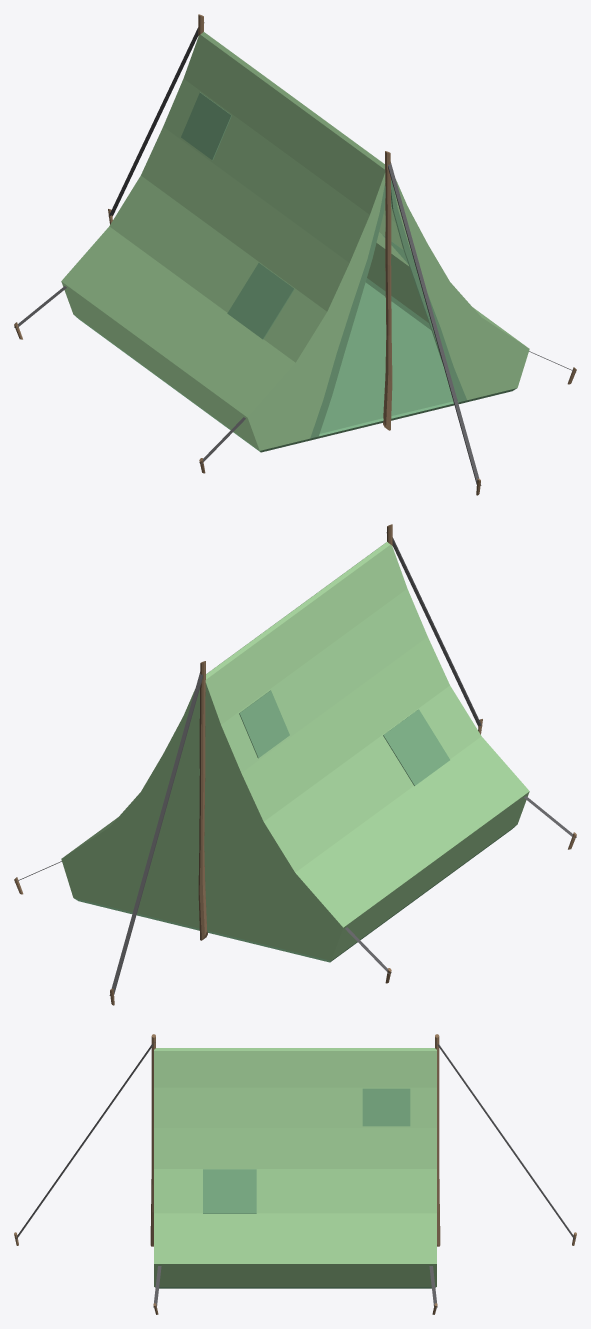
Rendered from tent.glb.
The picture shows the model from 3 angles, top to bottom: view 1: azimuth 30°, elevation 25°; view 2: azimuth 150°, elevation 25°; view 3: azimuth 270°, elevation 25°; orthographic projection. The views are drawn at different scales.
Parts seen in each view (by area): view 1: Tent; view 2: Tent; view 3: Tent.
Part boxes in pixels (<box>): Tent: <box>14,14,576,495</box>; Tent: <box>14,524,576,1005</box>; Tent: <box>14,1034,576,1314</box>.
Bounding box in the file's own units: 14.58 × 10.32 × 24.87.
